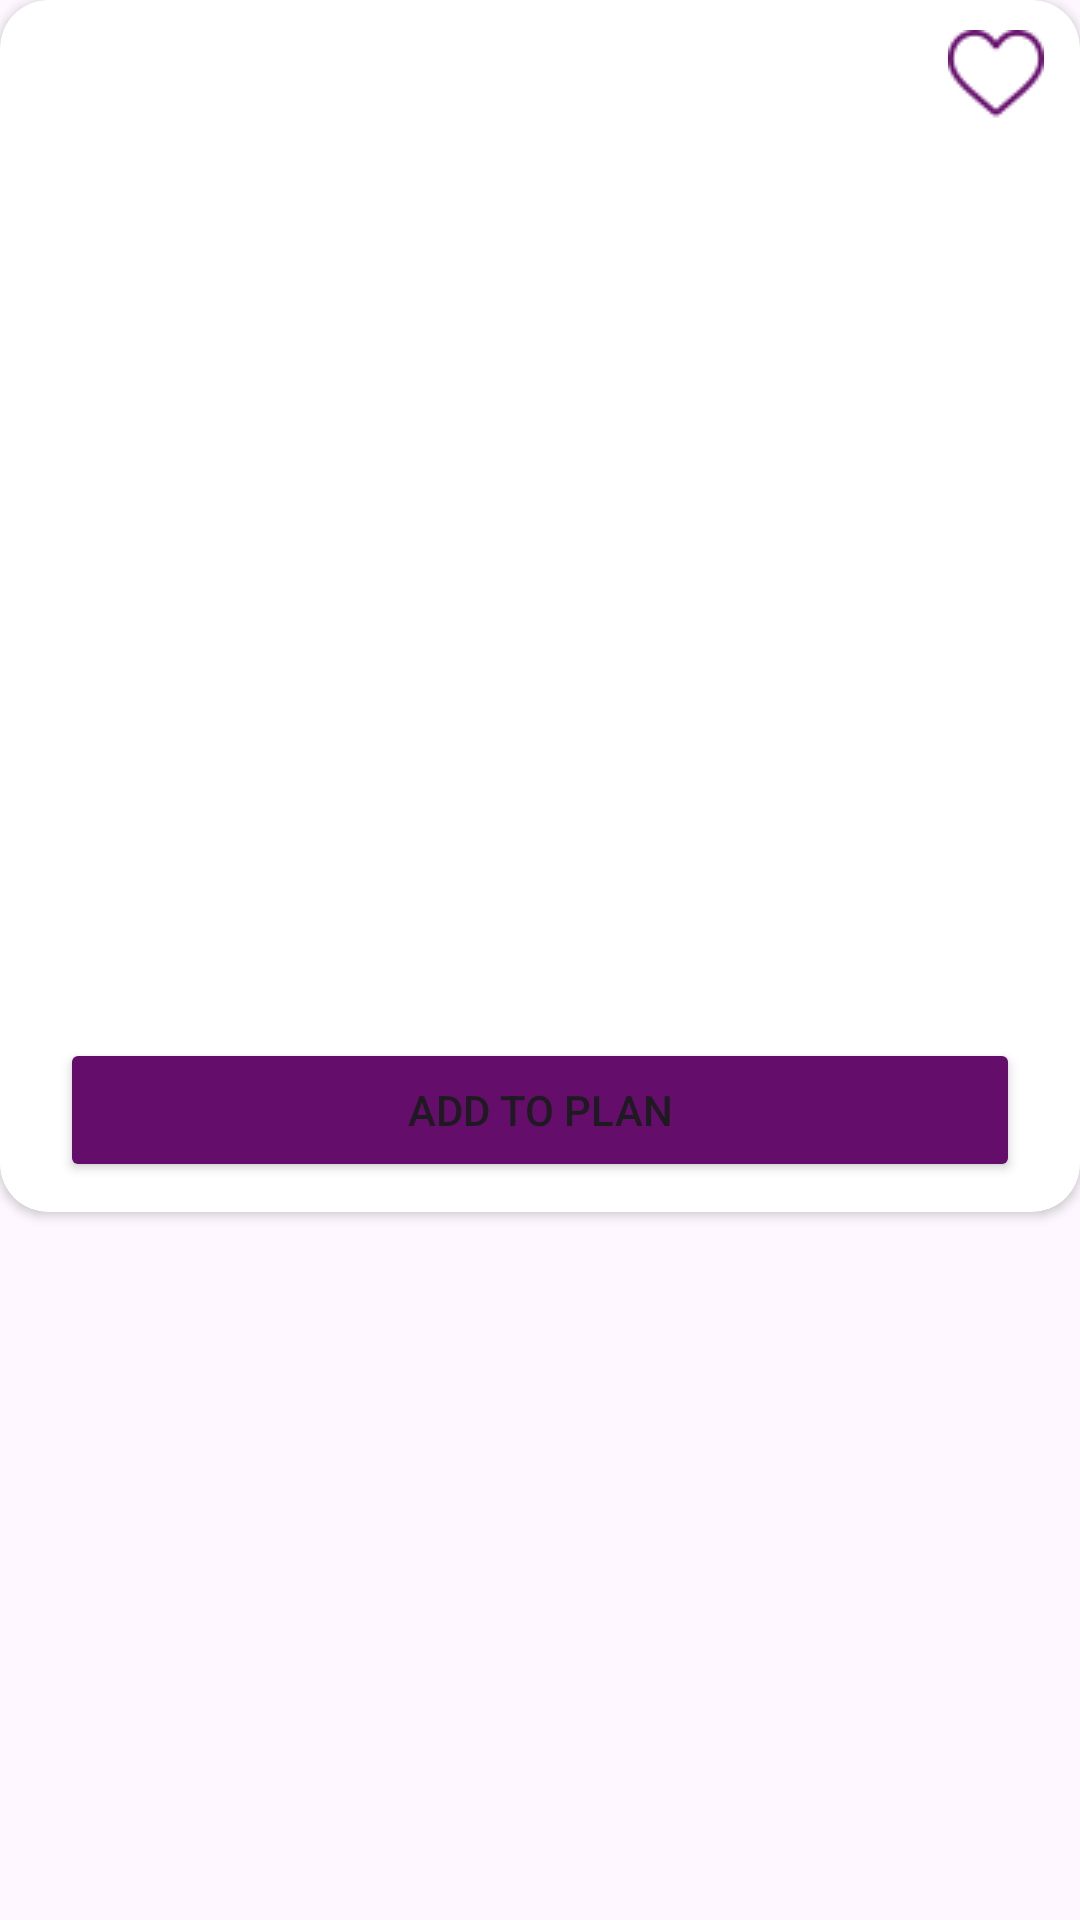

Named icons in this screenshot (1080px x 1920px) and their bounding boxes, BBox(x1, y1, x2, y2):
heartt: BBox(948, 0, 1080, 118)
